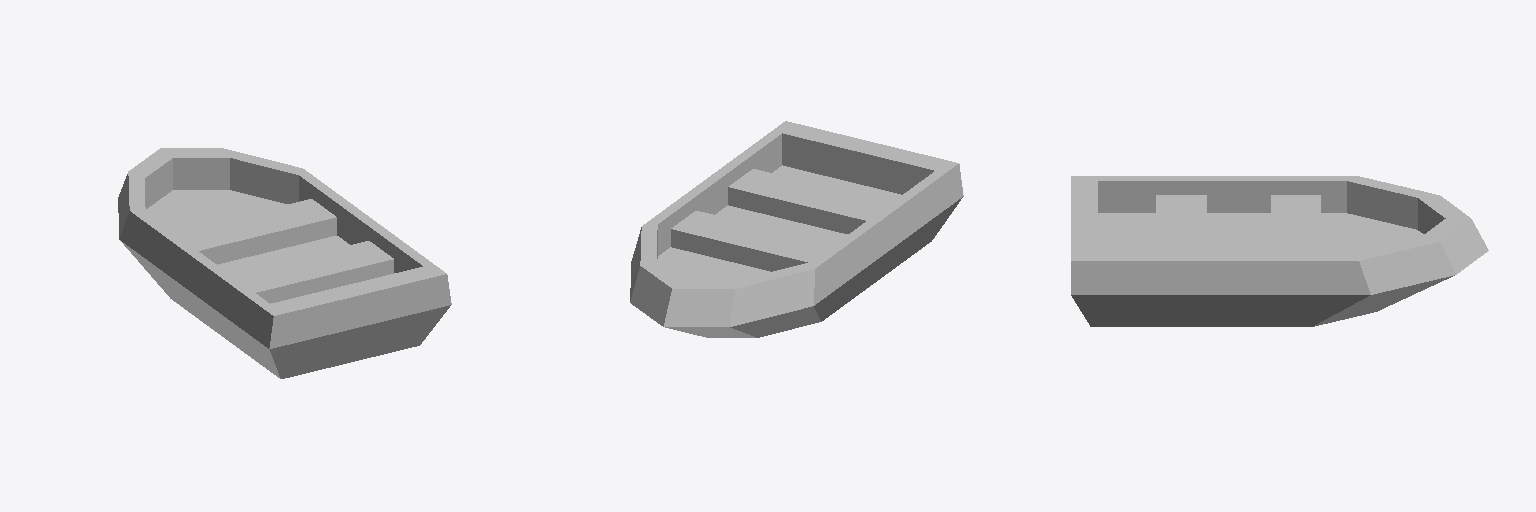
The model's file is boat_large.obj.
3 views of the same model, side by side, from view 1: azimuth 30°, elevation 25°; view 2: azimuth 150°, elevation 25°; view 3: azimuth 270°, elevation 25° (orthographic).
Visible parts, largest first — view 1: boat_large; view 2: boat_large; view 3: boat_large.
Part boxes in pixels (x1,y1,x2,y2): boat_large: (118,148,451,378); boat_large: (630,121,963,337); boat_large: (1071,176,1488,326).
Bounding box in the file's own units: 8.93 × 3.5 × 17.73.